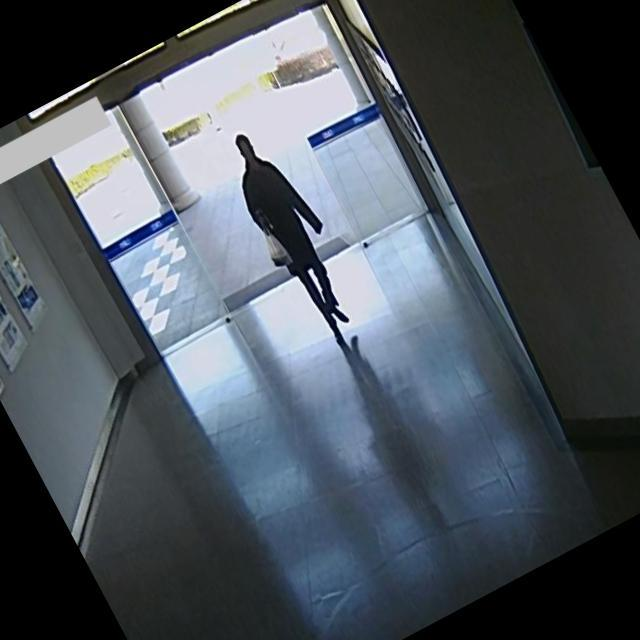person: (207, 110, 391, 362)
